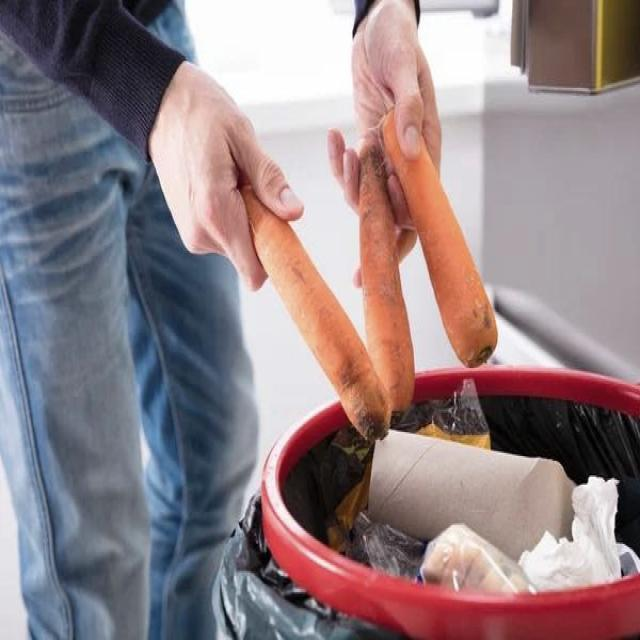Garbage: (283, 380, 640, 600)
contaminated_waste: (363, 506, 425, 582), (412, 384, 491, 440)
